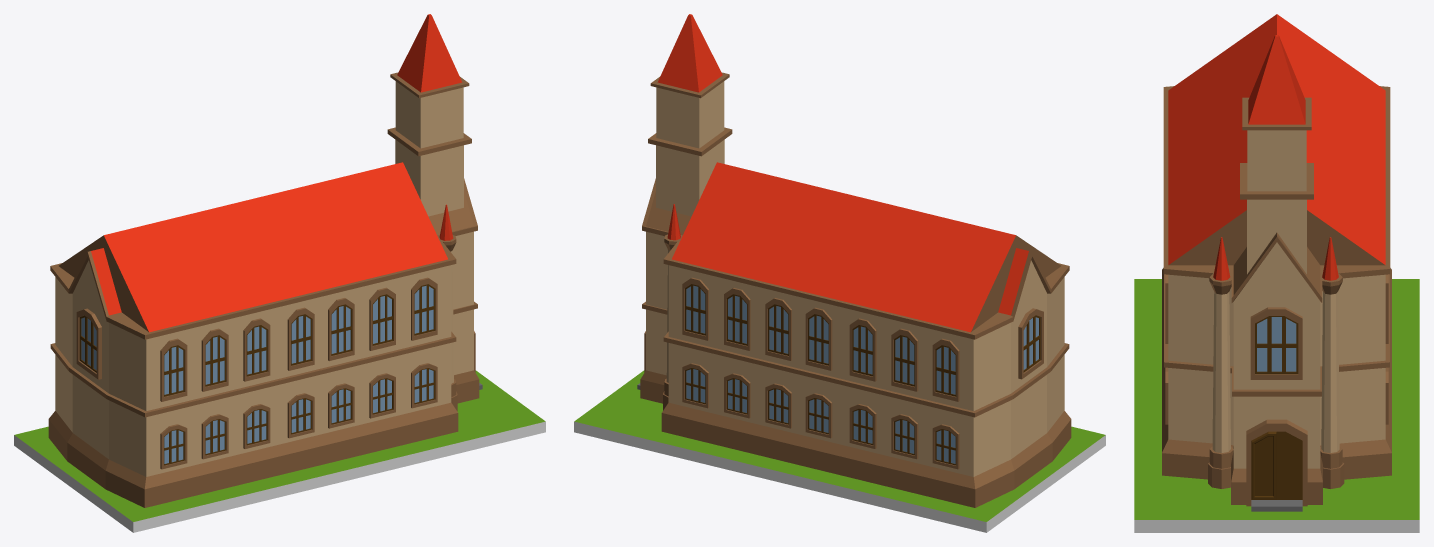
File: Church.gltf
3 renders of one model, left to right at view 1: azimuth 30°, elevation 25°; view 2: azimuth 150°, elevation 25°; view 3: azimuth 270°, elevation 25°, orthographic. The views are drawn at different scales.
Parts seen in each view (by area): view 1: crkva, prozorI.002, Baza 1x1.006, Cylinder.006; view 2: crkva, prozorI.002, Baza 1x1.006, Cylinder.006; view 3: crkva, Baza 1x1.006, Cylinder.006, VRATA.001, prozorI.002.
Boxes of the visible parts, x1,y1,x2,y2 form: crkva: [48, 14, 479, 507]; prozorI.002: [76, 277, 437, 469]; Baza 1x1.006: [14, 370, 545, 532]; Cylinder.006: [437, 204, 457, 411]; crkva: [640, 14, 1071, 507]; prozorI.002: [682, 277, 1043, 469]; Baza 1x1.006: [574, 370, 1105, 532]; Cylinder.006: [663, 204, 682, 410]; crkva: [1162, 14, 1391, 504]; Baza 1x1.006: [1134, 279, 1419, 532]; Cylinder.006: [1208, 237, 1344, 488]; VRATA.001: [1246, 419, 1307, 511]; prozorI.002: [1165, 274, 1388, 424].
Size of the model in its own units: 4 by 3.59 by 2.
